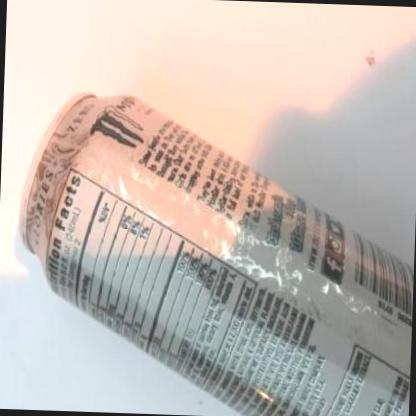alumunium_can: (12, 88, 416, 416)
